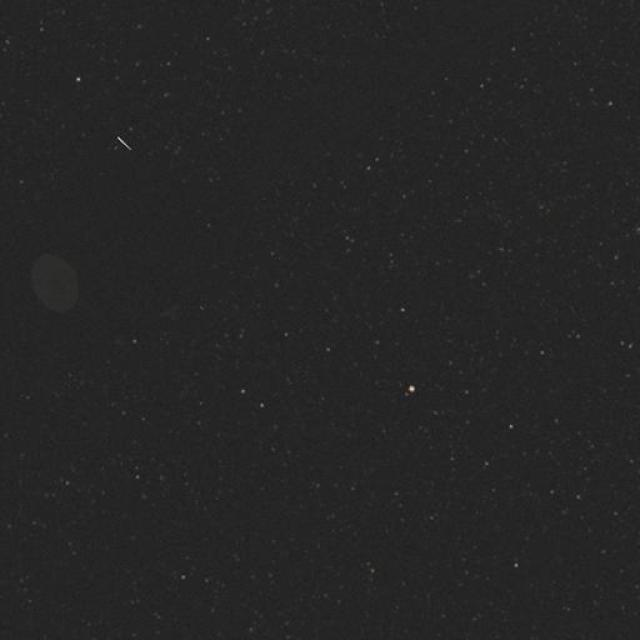smart_1: (0, 115, 203, 373)
